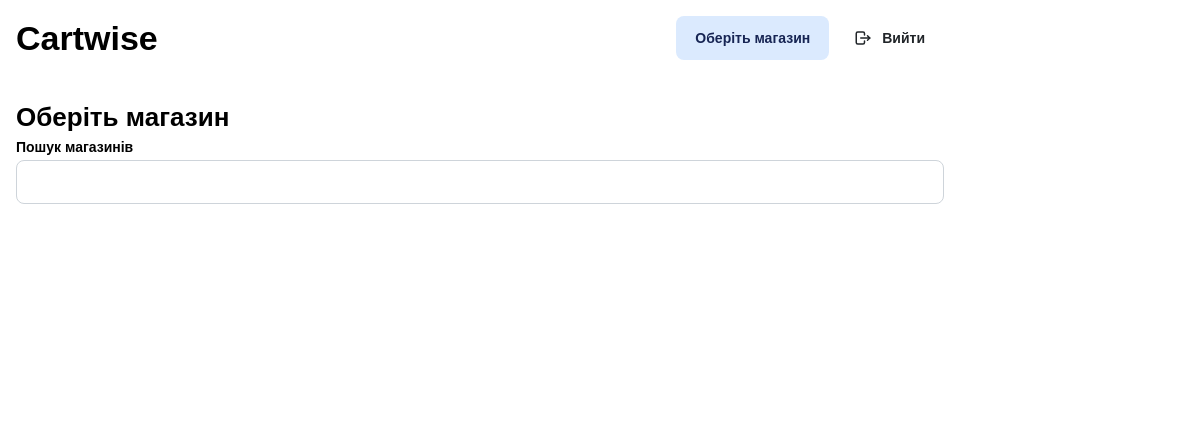
Scenario: renders only sanitized product fields for a non-empty search query
Expected: the heading "Оберіть магазин" is shown, [16,102,229,132]
Step 1. Type "Київ" into the field labelled "Пошук магазинів" → (480, 182), box [16,160,944,204]
Wait 450 ms
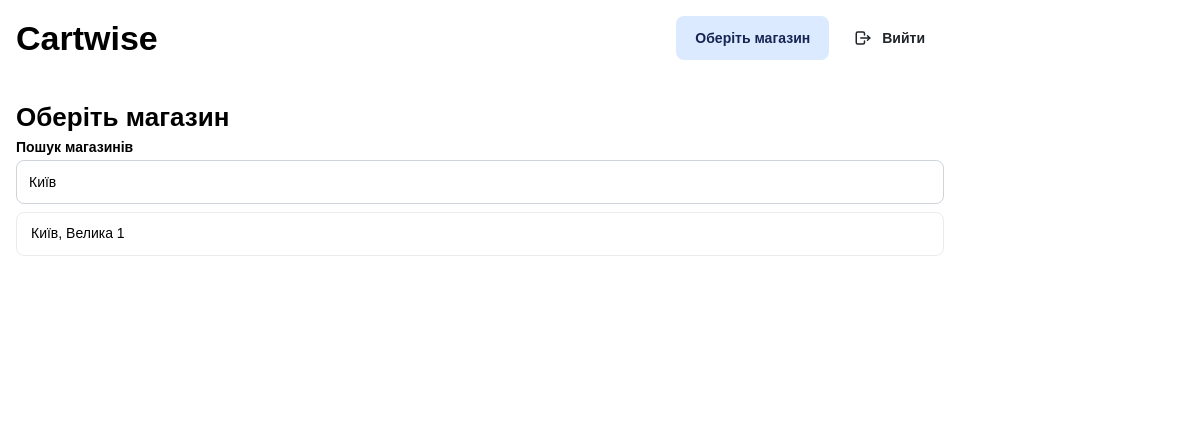
Now the option "Київ, Велика 1" is shown
Step 2. Click the option "Київ, Велика 1" → click(78, 233), box [31,225,125,241]
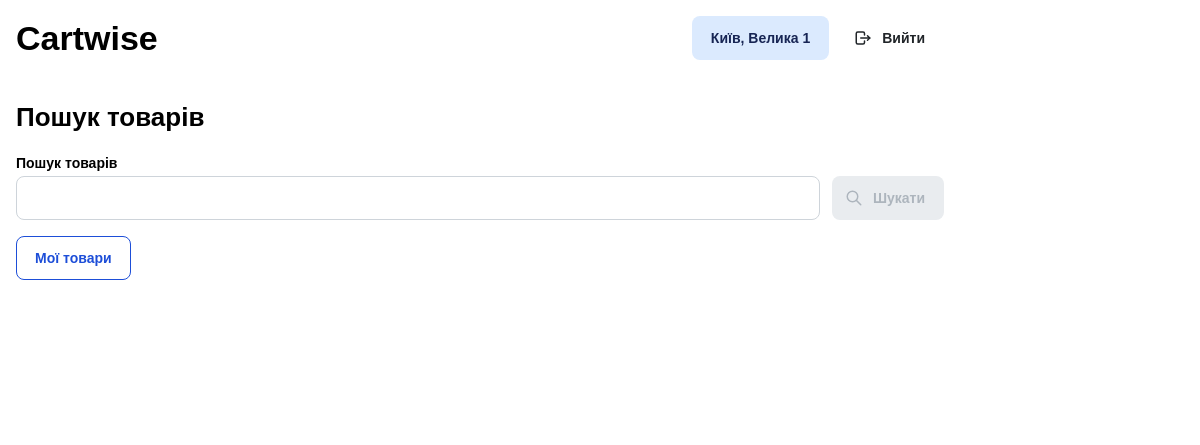
Step 3. Type "milk" into the field labelled "Пошук товарів" → (418, 198), box [16,176,820,220]
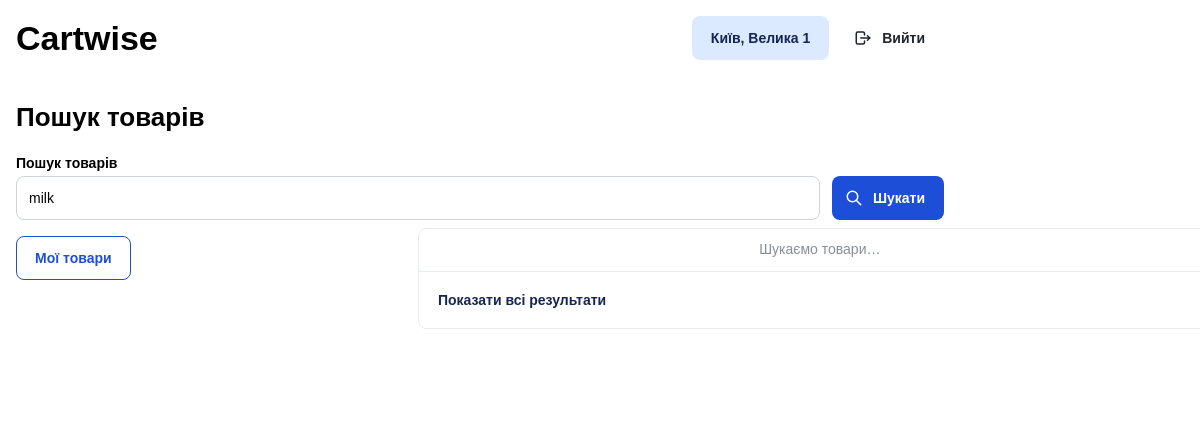
Step 4. Click the button "Шукати" → click(888, 198), box [832,176,944,220]
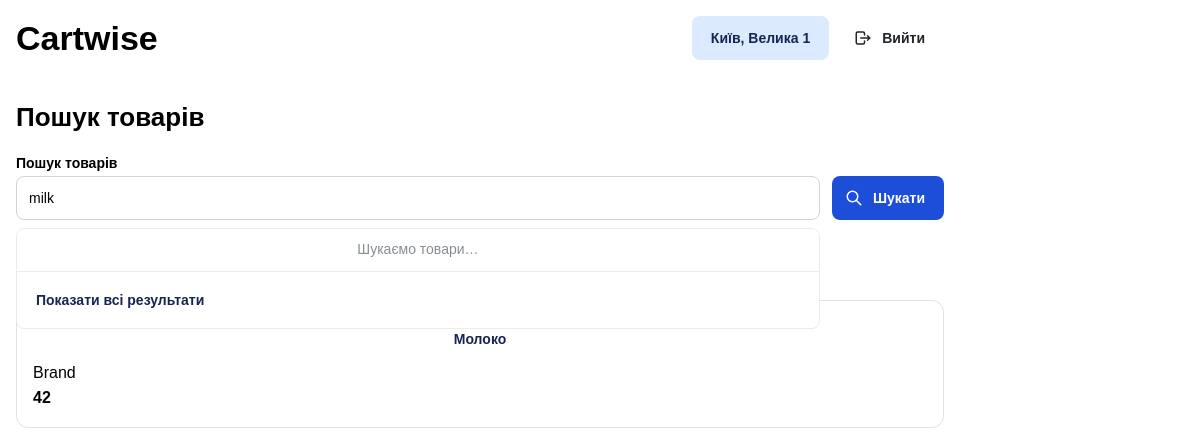
Now the button "Молоко" is shown, box [454,331,506,347]
Now the text "Brand" is shown, box [33,364,76,381]
Now the text "42" is shown, box [33,389,51,406]
